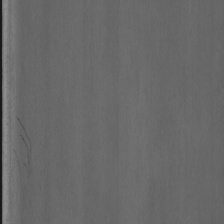water_spot: (12, 111, 35, 180)
